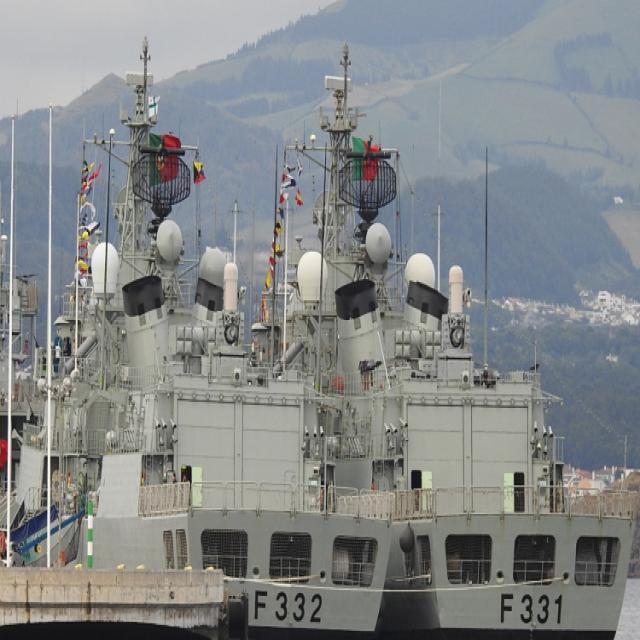Fragata: (64, 23, 391, 640), (313, 37, 640, 640)
